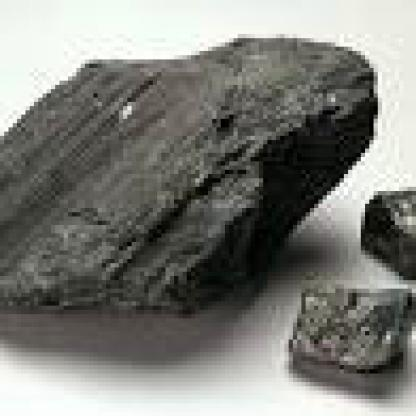Sedimentary_coal: (0, 21, 387, 349), (288, 280, 412, 386), (361, 187, 412, 280)
